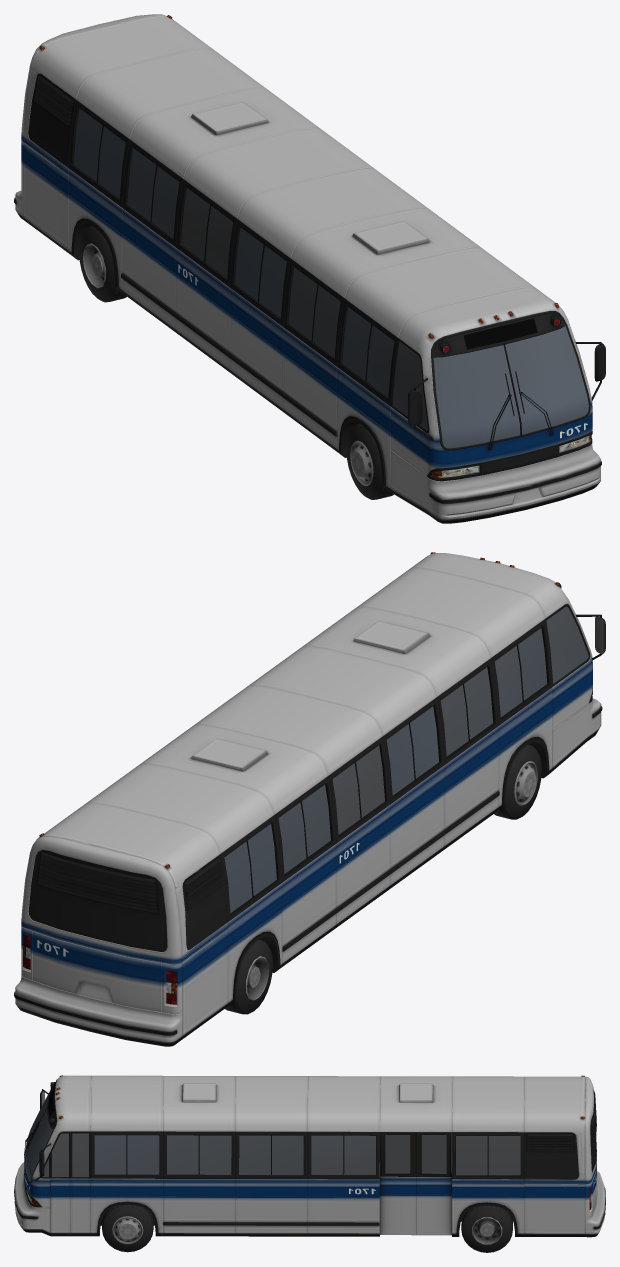
Rendered from citybus.glb.
3 views of the same model, one above another, from view 1: azimuth 30°, elevation 25°; view 2: azimuth 150°, elevation 25°; view 3: azimuth 270°, elevation 25° (orthographic). The views are drawn at different scales.
Parts seen in each view (by area): view 1: citybus body, Front Right Wheel, Rear Right Wheel; view 2: citybus body, Front Right Wheel, Rear Right Wheel; view 3: citybus body, Rear Left Wheel, Front Left Wheel.
Part boxes in pixels (x1=…): citybus body: x1=14, y1=14, x2=605, y2=523; Front Right Wheel: x1=346, y1=424, x2=393, y2=499; Rear Right Wheel: x1=79, y1=226, x2=126, y2=302; citybus body: x1=14, y1=552, x2=605, y2=1046; Front Right Wheel: x1=494, y1=744, x2=541, y2=819; Rear Right Wheel: x1=225, y1=939, x2=272, y2=1014; citybus body: x1=14, y1=1075, x2=605, y2=1237; Rear Left Wheel: x1=461, y1=1205, x2=512, y2=1252; Front Left Wheel: x1=102, y1=1205, x2=153, y2=1252.
Bounding box in the file's own units: 2.54 × 2.52 × 9.95.
1 material, 1 textured.
